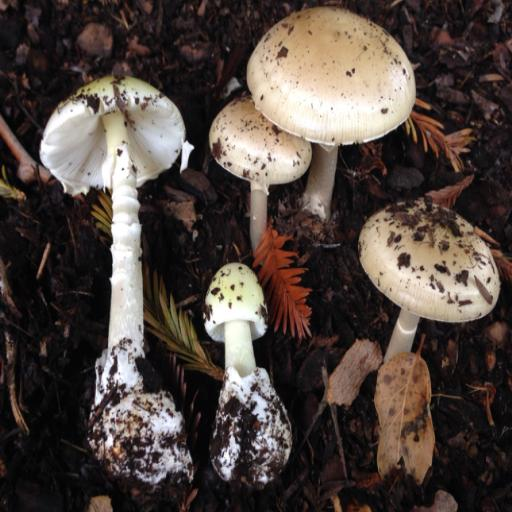Death Cap: (46, 79, 192, 476), (198, 0, 436, 221), (352, 189, 511, 364), (168, 90, 322, 246), (195, 263, 292, 483)
